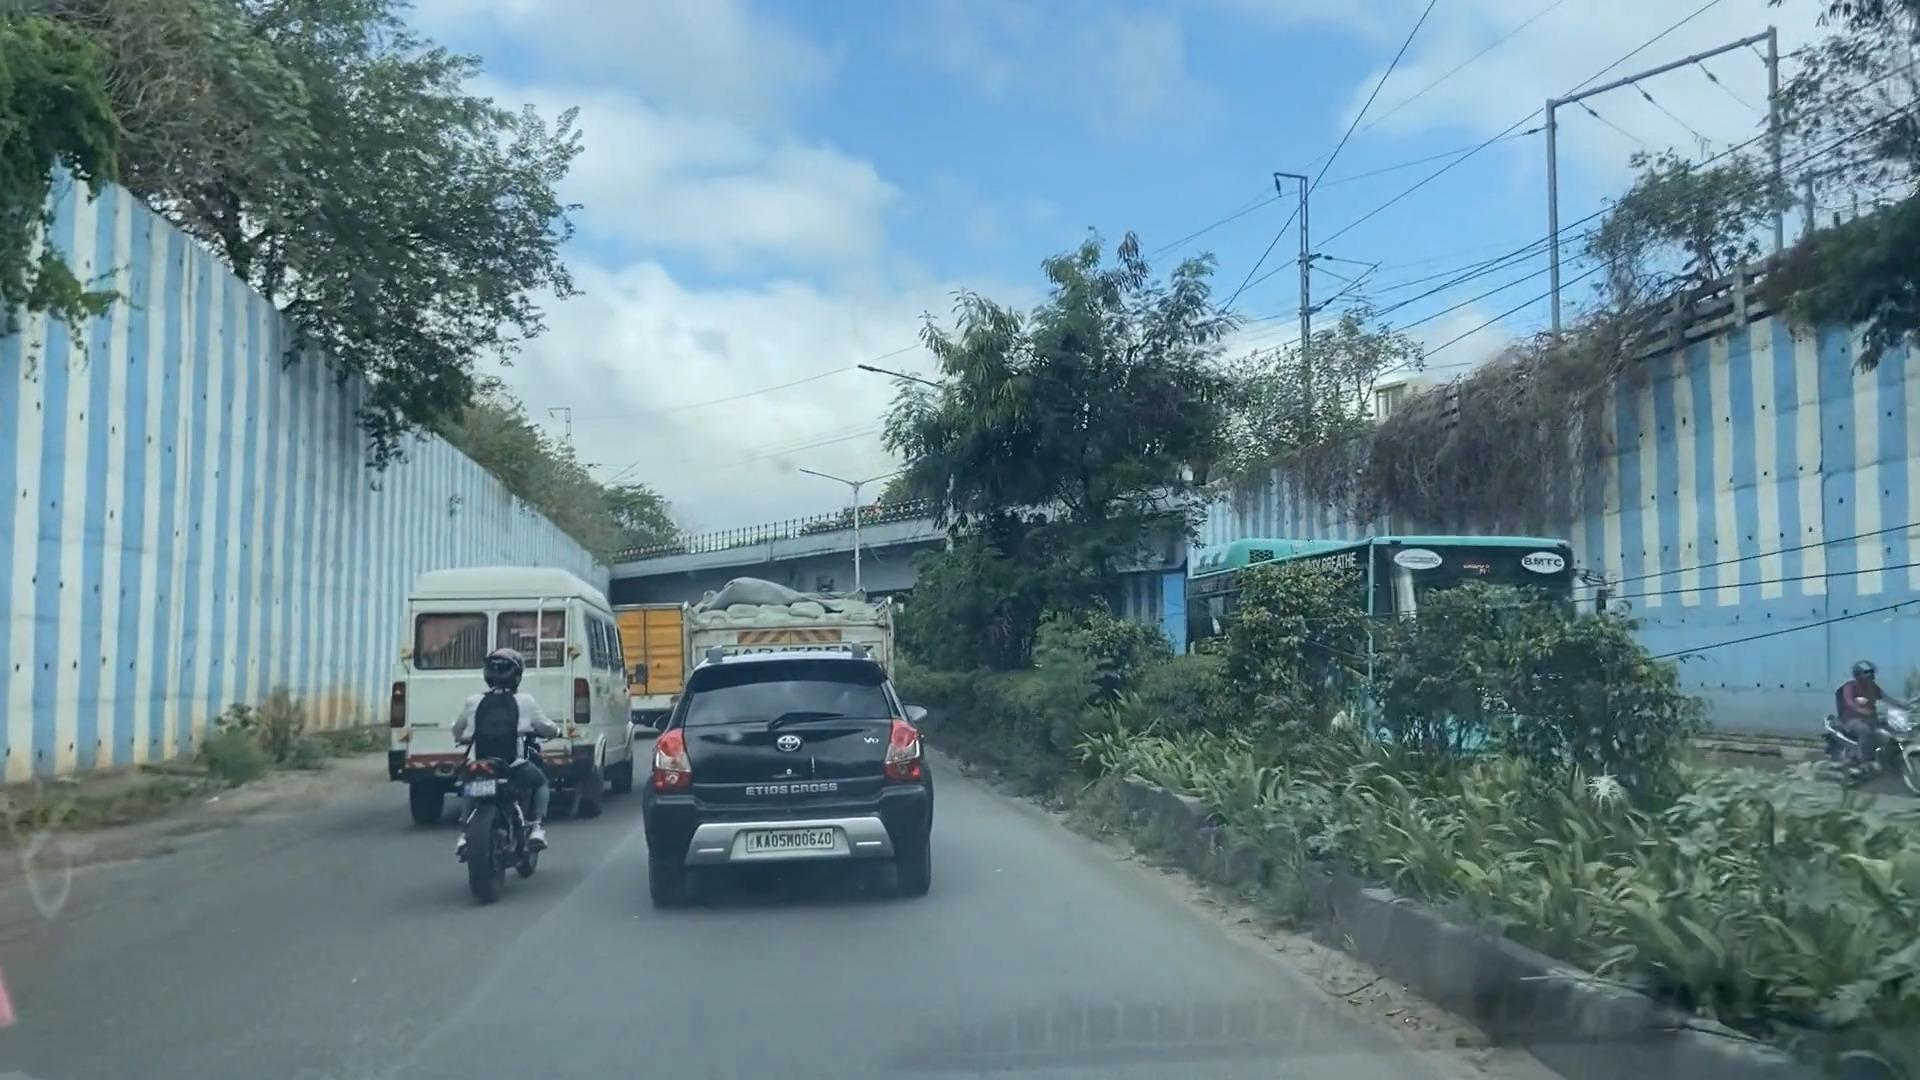HMV: (386, 579, 620, 816)
LMV: (642, 651, 911, 898), (433, 636, 559, 923)
